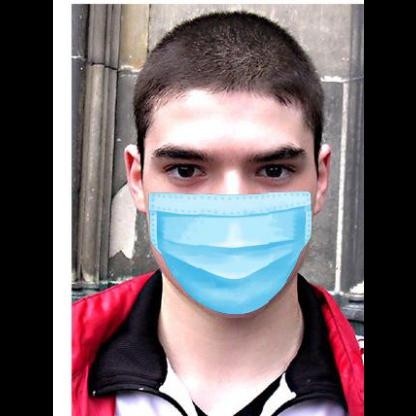Surgical Mask: (138, 115, 306, 305)
